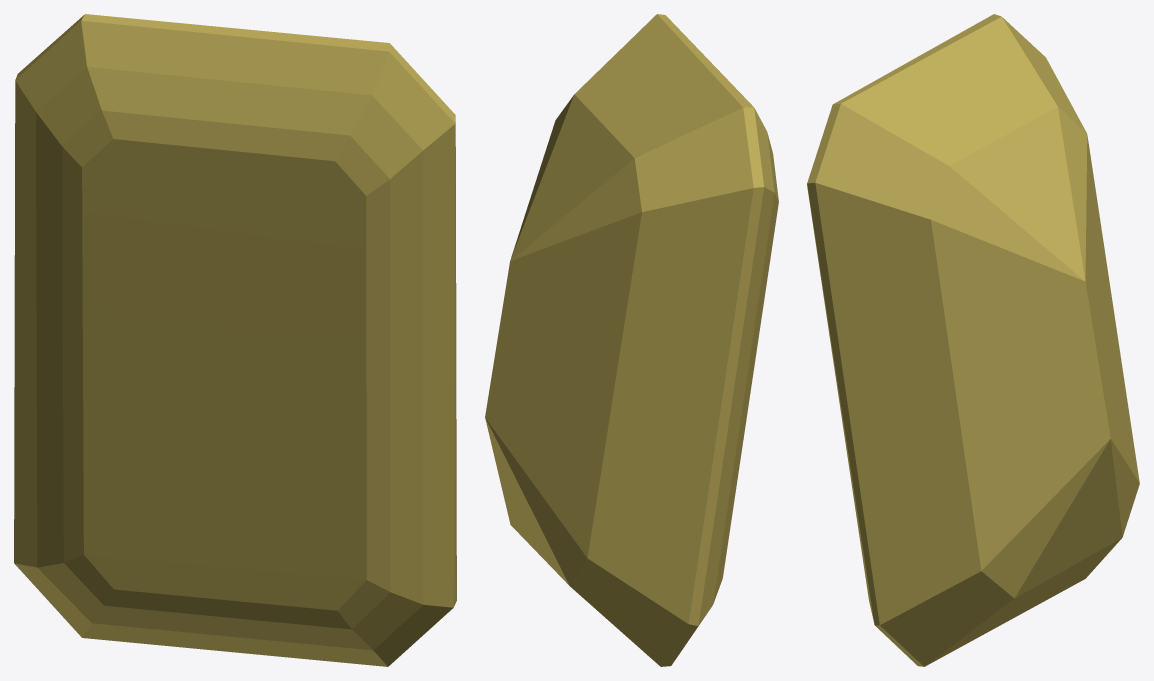
File: BL3_8shapes_Emerald_Classic_Stone.001 2.glb
3 renders of one model, left to right at view 1: azimuth 30°, elevation 25°; view 2: azimuth 150°, elevation 25°; view 3: azimuth 270°, elevation 25°, orthographic. The views are drawn at different scales.
Parts seen in each view (by area): view 1: BL3_8shapes_Emerald_Classic_Stone.001; view 2: BL3_8shapes_Emerald_Classic_Stone.001; view 3: BL3_8shapes_Emerald_Classic_Stone.001.
Boxes of the visible parts, bbox=[...] form: BL3_8shapes_Emerald_Classic_Stone.001: bbox=[14, 14, 456, 666]; BL3_8shapes_Emerald_Classic_Stone.001: bbox=[485, 14, 778, 666]; BL3_8shapes_Emerald_Classic_Stone.001: bbox=[807, 14, 1139, 666].
Size of the model in its own units: 0.334 by 0.6041 by 0.3314.
